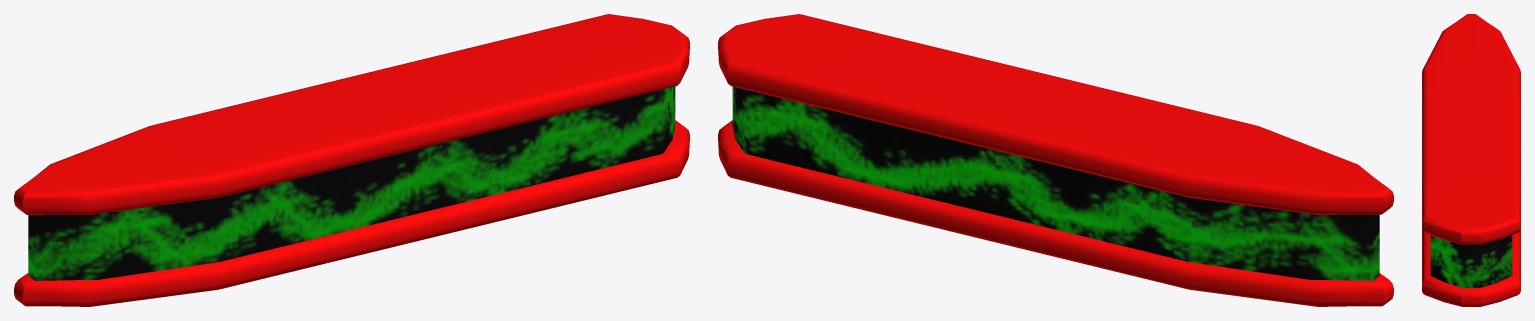
The model's file is flipper2.glb.
The picture shows the model from 3 angles, left to right: view 1: azimuth 30°, elevation 25°; view 2: azimuth 150°, elevation 25°; view 3: azimuth 270°, elevation 25°; orthographic projection. The views are drawn at different scales.
Parts seen in each view (by area): view 1: pCube1; view 2: pCube1; view 3: pCube1.
Boxes of the visible parts, bbox=[...] form: pCube1: bbox=[14, 14, 689, 306]; pCube1: bbox=[718, 14, 1393, 306]; pCube1: bbox=[1422, 14, 1520, 306].
Bounding box in the file's own units: 0.1152 × 0.0192 × 0.022.
1 material, 1 textured.
